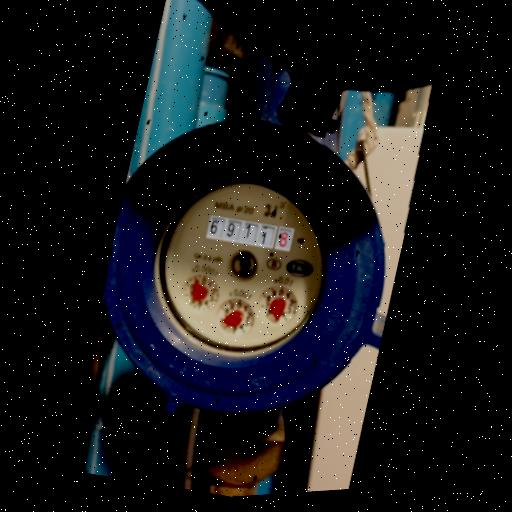1: (242, 223, 258, 244), (258, 226, 274, 247)
6: (208, 217, 224, 238)
8: (276, 228, 291, 249)
9: (225, 219, 240, 240)
border_water_meter_number: (206, 208, 295, 256)
